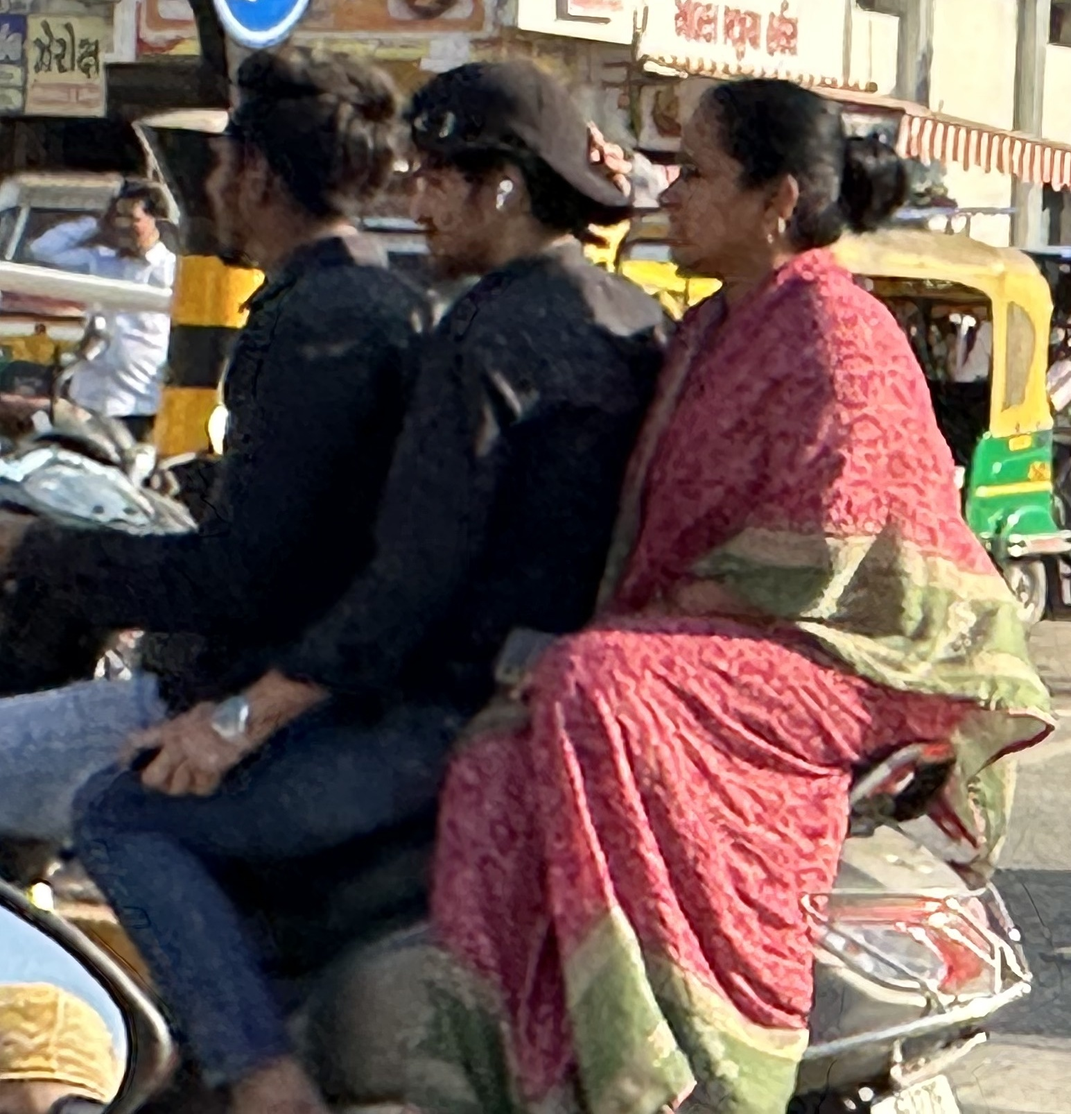BikeWithRider: (0, 46, 1037, 1114)
NoHelmet: (647, 69, 924, 304), (397, 49, 645, 275), (205, 49, 414, 273)
